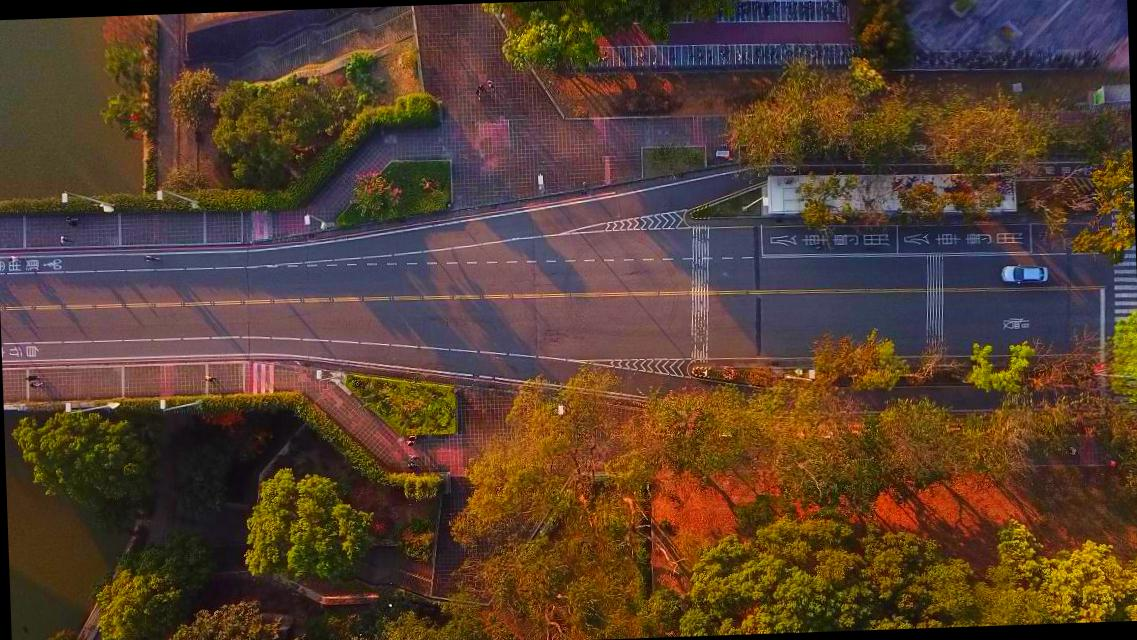vehicle: (999, 262, 1048, 285)
